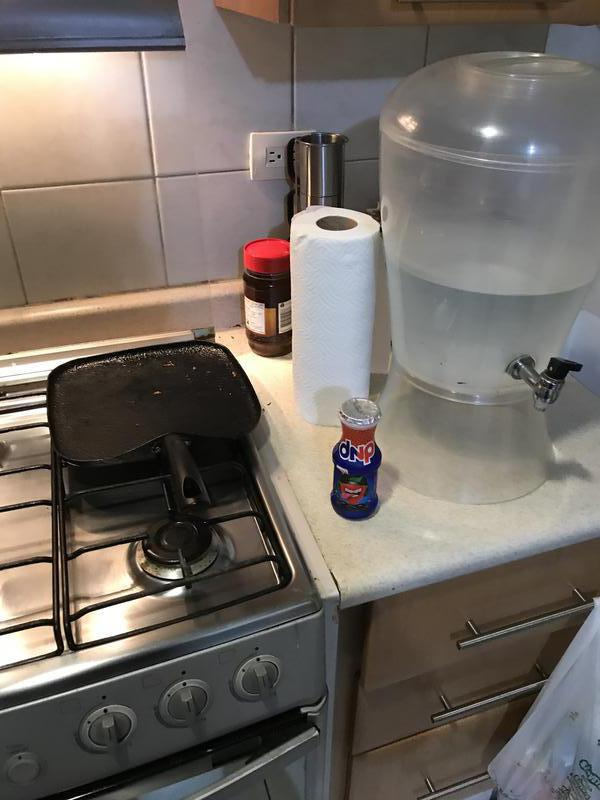danup: (332, 398, 384, 522)
